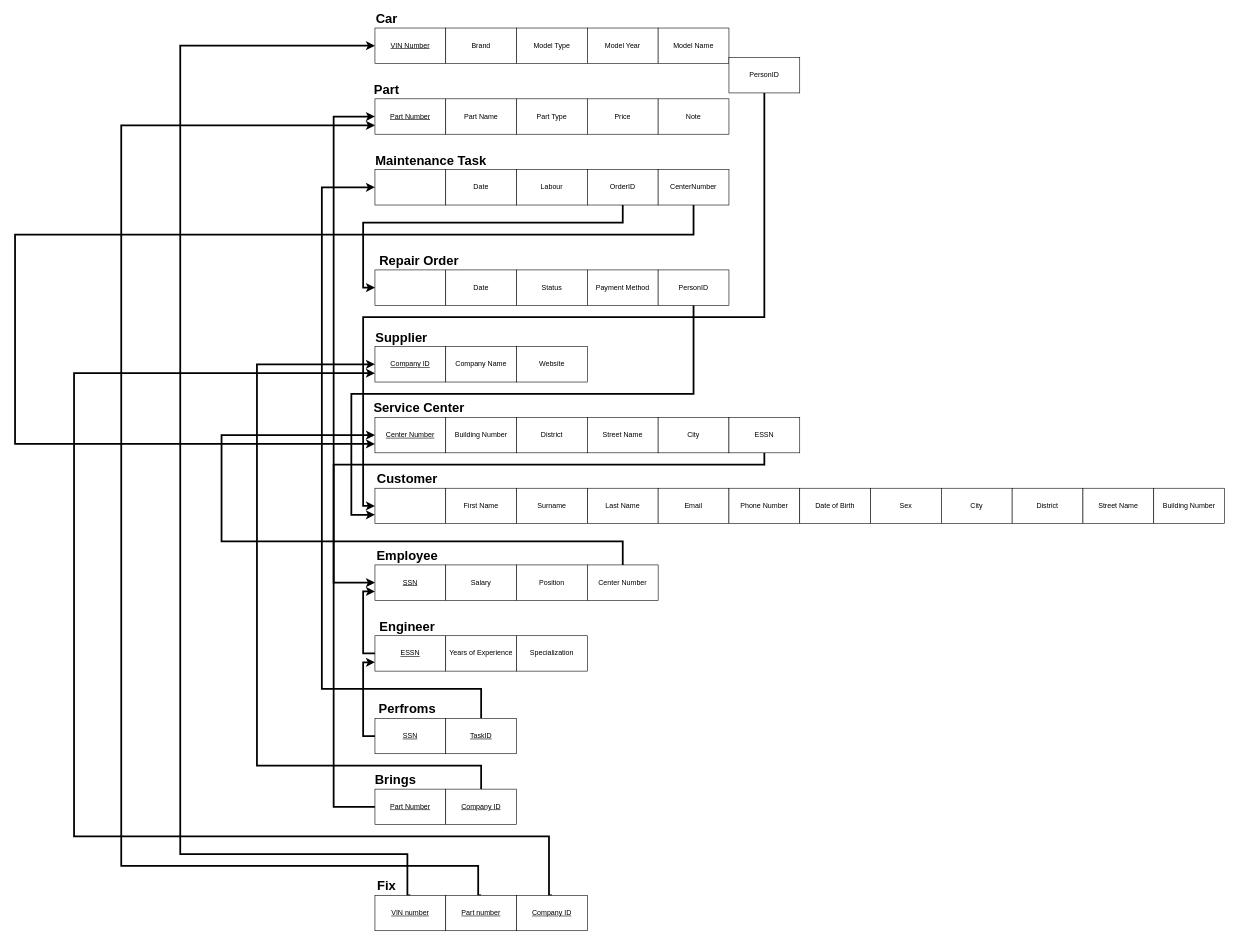
This 1235x941 diagram has some shape labels left out. Each missing label, with the box of its shape:
Order ID: (374, 269, 446, 305)
Person ID: (374, 488, 446, 524)
Task ID: (374, 169, 446, 205)
